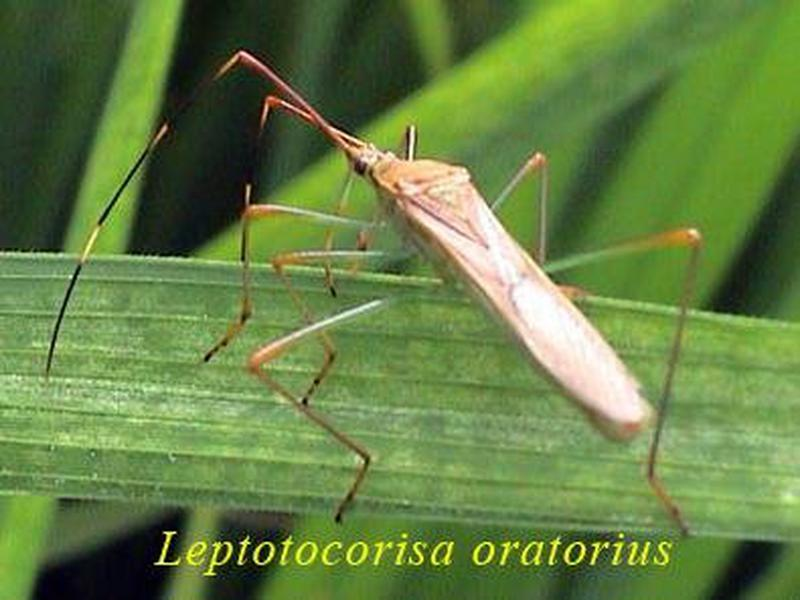Rice_earhead_bug: (246, 95, 695, 482)
